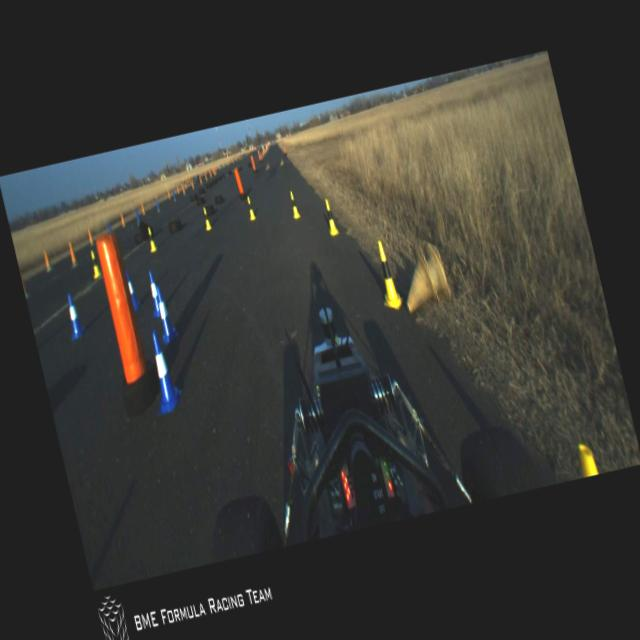blue_cone: (140, 328, 184, 414), (151, 285, 180, 344), (61, 292, 87, 342), (144, 270, 164, 318), (124, 266, 142, 314)
yellow_cone: (370, 238, 404, 314), (321, 196, 340, 237), (286, 188, 300, 220), (88, 249, 101, 278), (244, 193, 256, 221), (200, 206, 212, 231), (144, 225, 156, 250)
